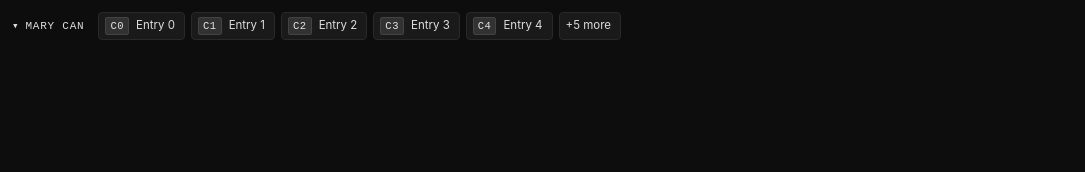
Test: the skill row’s expansion › opens in place to every entry, reads `fewer`, and closes back to five
Click the button with class "skill-more" at (590, 26), box [558,12,621,40]
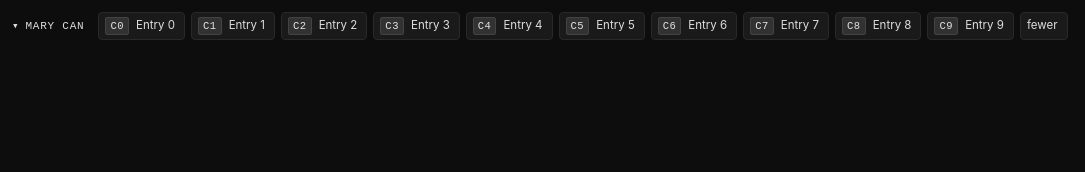
Expected: the button with class "skill-more" reads "fewer"
Expected: the button with class "skill-more" is expanded
Click the button with class "skill-more" at (1044, 26), box [1020,12,1068,40]
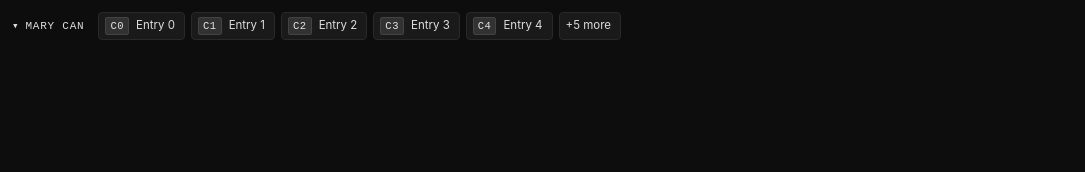
Expected: the button with class "skill-more" reads "+5 more", [558,12,621,40]
Expected: the button with class "skill-more" is collapsed, [558,12,621,40]
